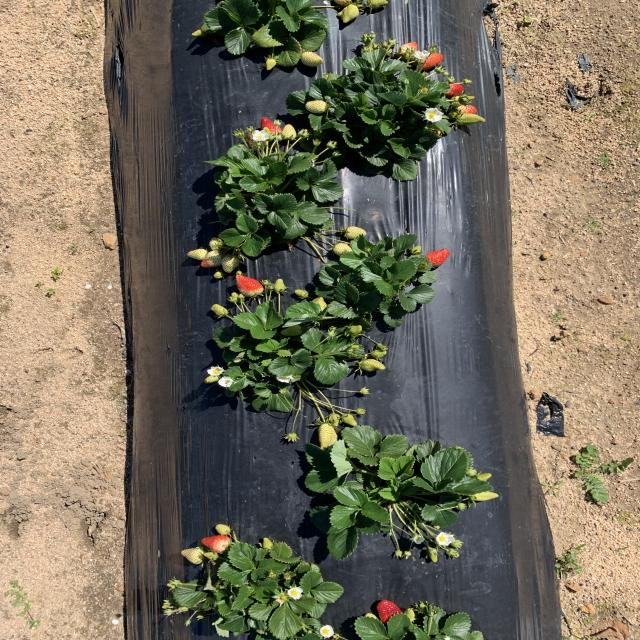unripe: (257, 115, 283, 142), (234, 274, 264, 296), (375, 600, 401, 621), (201, 534, 230, 552), (427, 248, 451, 266), (440, 81, 463, 98), (418, 53, 444, 68)
